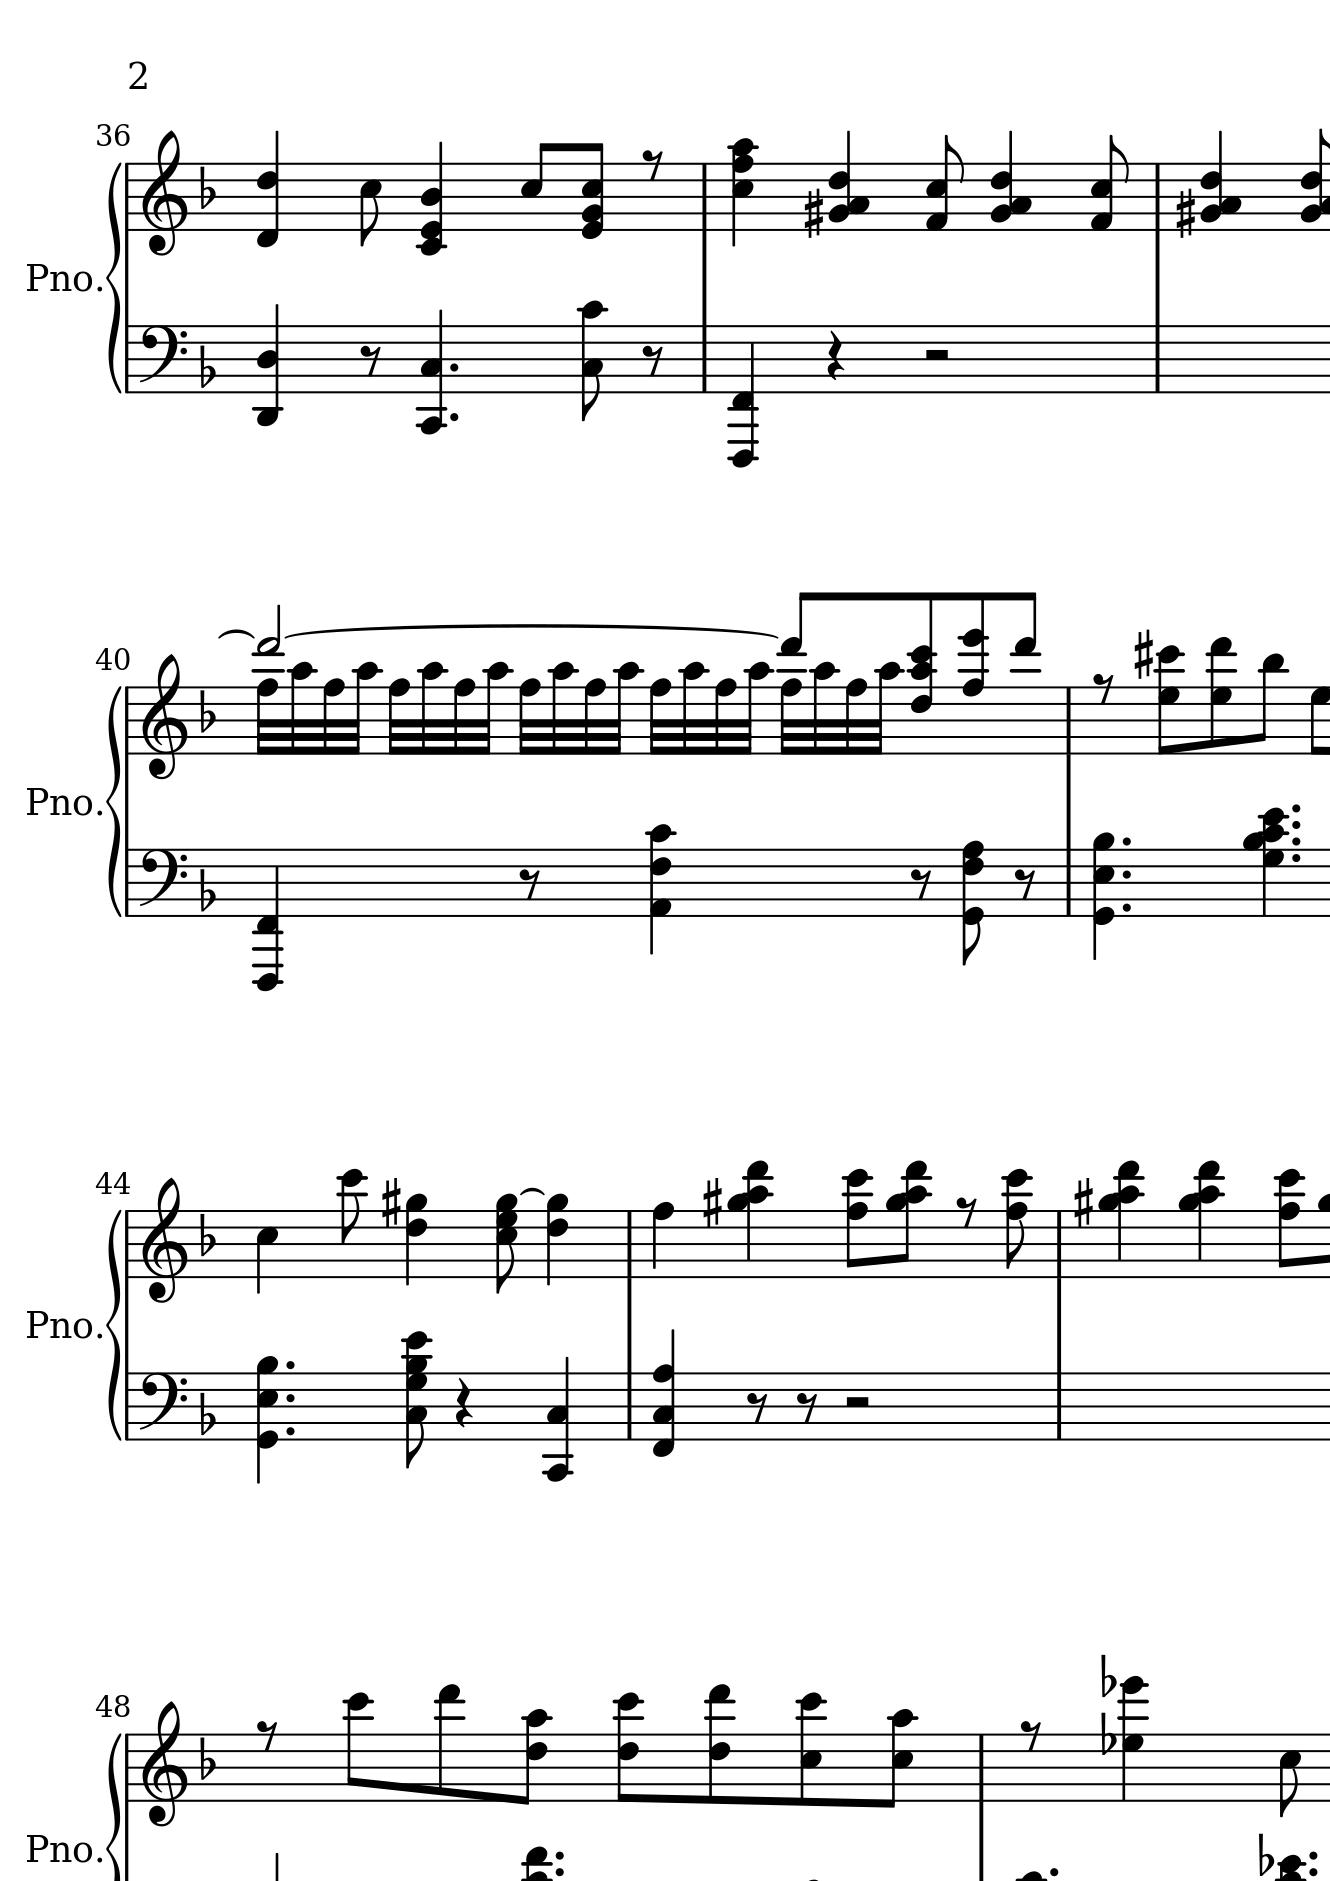0: (112, 646, 130, 674)
16_10: (869, 661, 900, 758)
2: (127, 60, 147, 91)
3: (95, 121, 111, 148)
32_10: (347, 661, 381, 758), (607, 662, 641, 758), (548, 661, 579, 757), (417, 661, 448, 756), (810, 662, 839, 758), (482, 661, 511, 757), (288, 661, 317, 757), (746, 661, 774, 757), (678, 661, 707, 756)
32_8: (646, 678, 672, 757), (255, 676, 281, 756), (320, 678, 345, 756), (843, 679, 869, 757), (386, 678, 410, 756), (515, 678, 540, 756), (712, 678, 737, 756), (780, 678, 805, 756), (451, 678, 474, 756), (582, 678, 605, 756)
4: (112, 1170, 132, 1197), (94, 1169, 112, 1197), (94, 1692, 112, 1720), (94, 645, 111, 674)
4_-1_6: (256, 131, 281, 249)
4_-3_4: (250, 304, 284, 427)
4_-4_3: (540, 1356, 574, 1482), (415, 311, 448, 436)
4_-8_-1: (252, 848, 285, 993), (728, 324, 760, 469)
4_4th: (1241, 806, 1288, 920)
4_5: (253, 1207, 279, 1295)
4_6_9: (404, 1192, 429, 1287), (546, 1192, 569, 1287)
4_7_14: (1118, 1675, 1152, 1803)
4_th: (1097, 1159, 1147, 1279), (1180, 1156, 1229, 1279), (731, 1160, 773, 1279), (1198, 128, 1242, 232), (826, 127, 869, 232), (643, 820, 677, 954), (990, 130, 1032, 235), (415, 140, 446, 258), (253, 1354, 284, 1477), (1090, 829, 1117, 958), (728, 134, 759, 248), (651, 1333, 678, 1455)
6: (112, 121, 130, 147)
8: (112, 1692, 131, 1718)
8_11: (1254, 651, 1285, 757)
8_12: (343, 1690, 371, 1805), (337, 1167, 366, 1279)
8_13: (1009, 592, 1039, 758), (435, 1684, 462, 1806)
8_1_5: (1090, 135, 1131, 233), (924, 135, 964, 233)
8_3_10: (577, 299, 607, 425)
8_4th: (399, 1324, 435, 1472)
8_5: (515, 140, 548, 232), (357, 160, 381, 248), (1277, 1731, 1301, 1818)
8_6_10: (514, 1708, 551, 1806), (884, 1708, 915, 1810)
8_6_12: (795, 1691, 826, 1808), (612, 1692, 645, 1800)
8_6_13: (704, 1684, 738, 1808)
8_7: (1308, 685, 1329, 756)
8_7_12: (1154, 645, 1186, 757)
8_7_13: (1206, 636, 1235, 756)
8_8: (649, 1200, 674, 1279)
8_8_12: (1000, 1169, 1033, 1281), (841, 1167, 872, 1279), (1272, 1169, 1304, 1278)
8_8_14: (956, 592, 989, 756)
8_th: (887, 1160, 934, 1281), (910, 592, 938, 756), (959, 838, 983, 969), (577, 141, 606, 242), (494, 1190, 517, 1292)
Brace: (104, 157, 124, 396), (104, 1206, 124, 1445), (104, 684, 122, 920), (104, 1733, 122, 1881)
Fclef: (135, 322, 189, 396), (135, 1370, 187, 1443), (135, 848, 186, 914)
Flat: (196, 343, 217, 391), (196, 686, 217, 735), (196, 1210, 217, 1259), (196, 166, 217, 213), (196, 865, 217, 912), (1255, 1829, 1275, 1878), (196, 1390, 216, 1438), (1100, 1652, 1118, 1700), (197, 1736, 216, 1783), (1098, 1711, 1117, 1757)
Gclef: (138, 653, 189, 781), (140, 1700, 189, 1828), (140, 130, 187, 258), (140, 1176, 187, 1304)
Pno: (23, 1831, 94, 1869), (24, 259, 92, 298), (24, 1305, 92, 1344), (26, 784, 91, 820)
Rests2: (918, 345, 951, 364), (841, 1393, 871, 1410)
Rests4: (823, 330, 845, 384), (452, 1376, 474, 1431)
Rests8: (639, 343, 665, 379), (1012, 866, 1036, 902), (357, 343, 381, 377), (1091, 671, 1116, 705), (255, 1717, 279, 1751), (1018, 1717, 1042, 1751), (641, 145, 664, 181), (744, 1390, 769, 1423), (795, 1390, 819, 1423), (517, 866, 540, 901), (908, 866, 931, 901), (954, 1195, 977, 1228)
Sharp: (1172, 186, 1198, 239), (1130, 626, 1154, 682), (700, 1176, 724, 1230), (379, 1177, 402, 1230), (800, 189, 823, 240), (1072, 1177, 1094, 1230)
Single_barline: (692, 325, 714, 393), (1147, 164, 1166, 232), (620, 1210, 639, 1278), (1049, 1373, 1068, 1441), (695, 164, 714, 230), (972, 1736, 990, 1802), (1149, 327, 1166, 393), (1059, 688, 1077, 754), (1049, 1212, 1067, 1278), (620, 1373, 638, 1439), (1059, 851, 1077, 915), (119, 686, 135, 756), (119, 164, 135, 232), (119, 1210, 135, 1278), (119, 1734, 135, 1802), (121, 849, 135, 915), (121, 1373, 135, 1439), (121, 327, 135, 391)
Slur: (216, 627, 255, 640), (515, 1187, 546, 1197)
dot: (1118, 866, 1133, 882), (1118, 899, 1133, 915), (1288, 802, 1303, 816), (1288, 851, 1303, 865), (282, 1390, 297, 1405), (1306, 1865, 1320, 1880), (281, 1359, 297, 1372), (551, 1867, 567, 1880), (448, 360, 461, 374), (448, 410, 461, 425), (1290, 817, 1304, 830), (1118, 835, 1133, 848), (1288, 835, 1303, 848), (551, 1849, 566, 1862), (1046, 1865, 1059, 1880), (284, 1423, 297, 1436), (1306, 1849, 1318, 1862)
